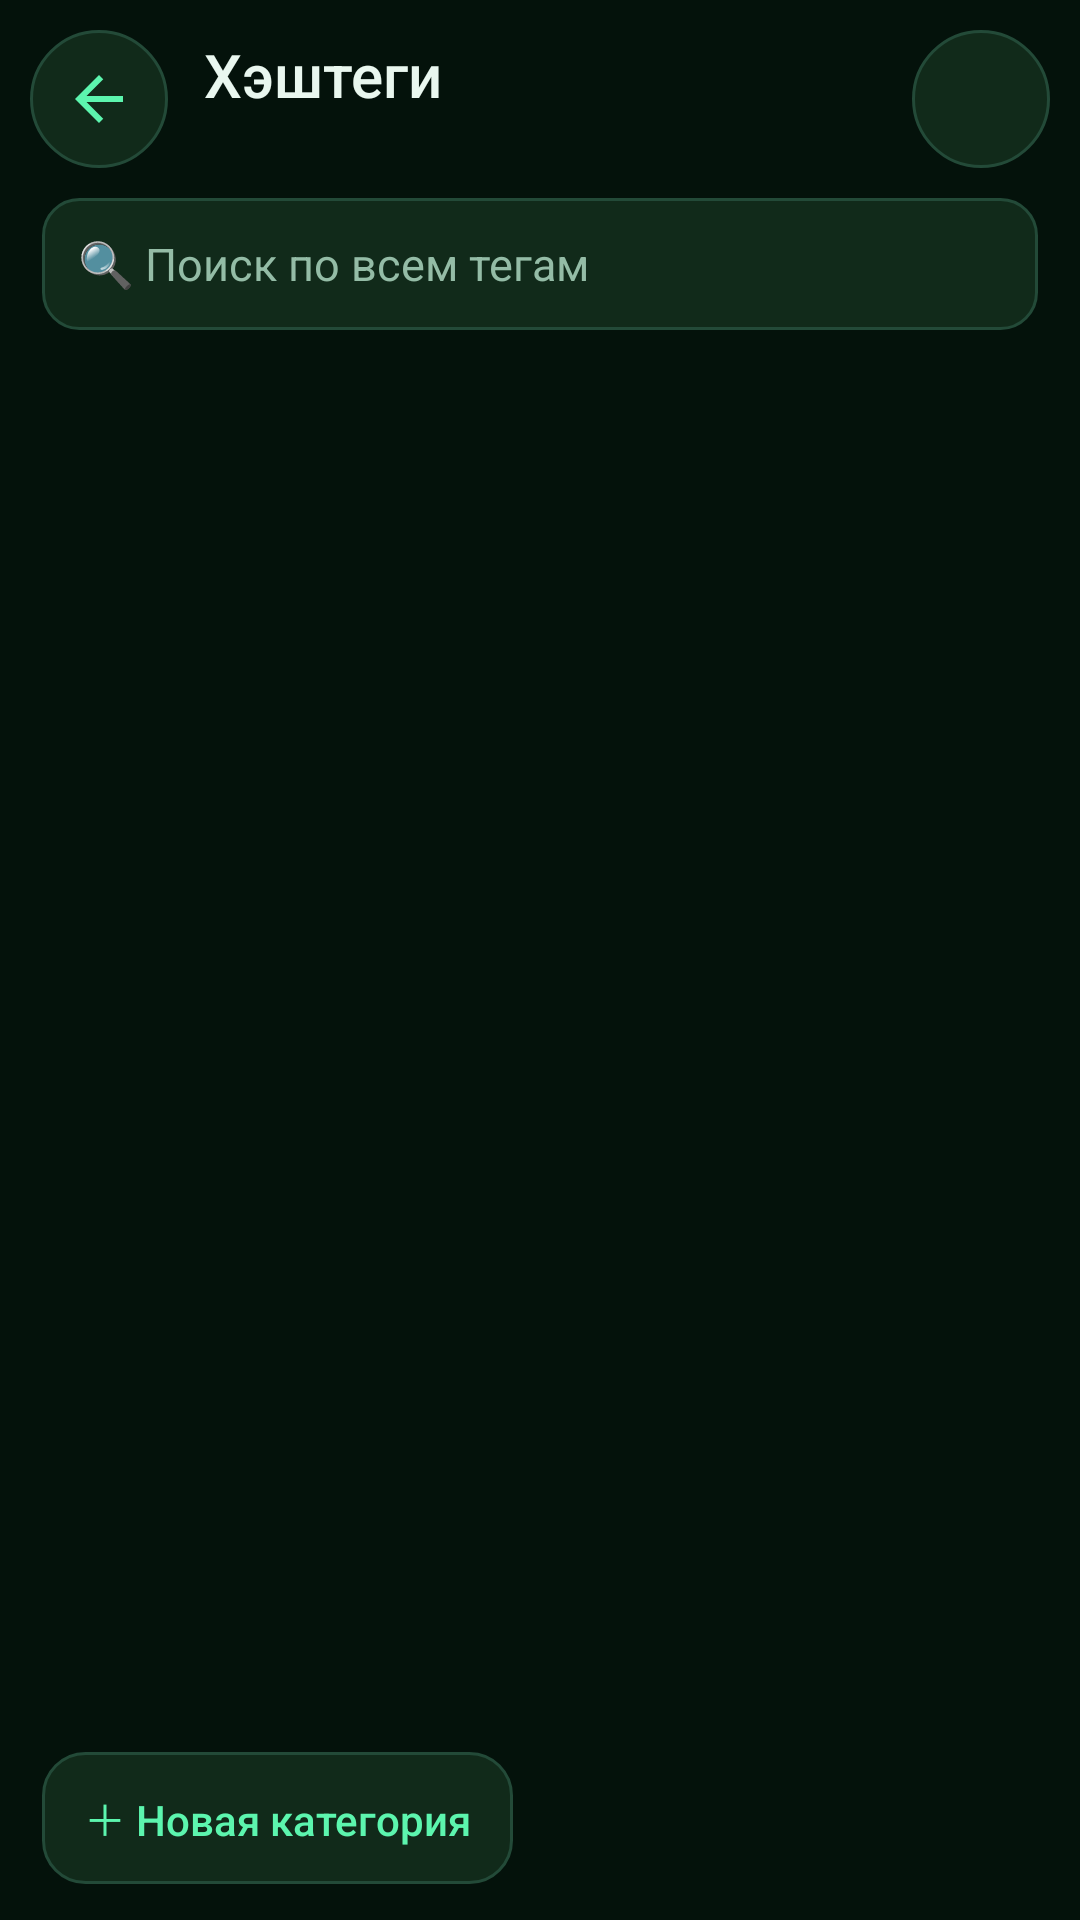

Point at icon controls on the screen. Image size 1080px×1920px, points as (x,y).
Назад: (99,99)
